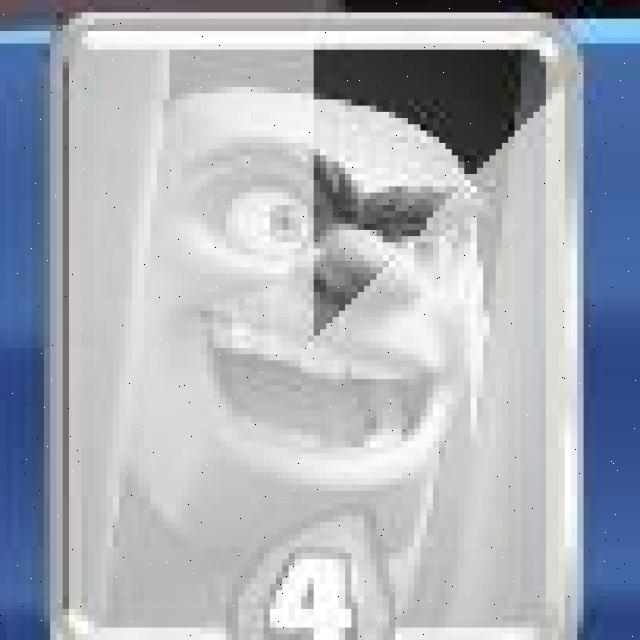Goblin_Cage: (51, 8, 575, 640)
